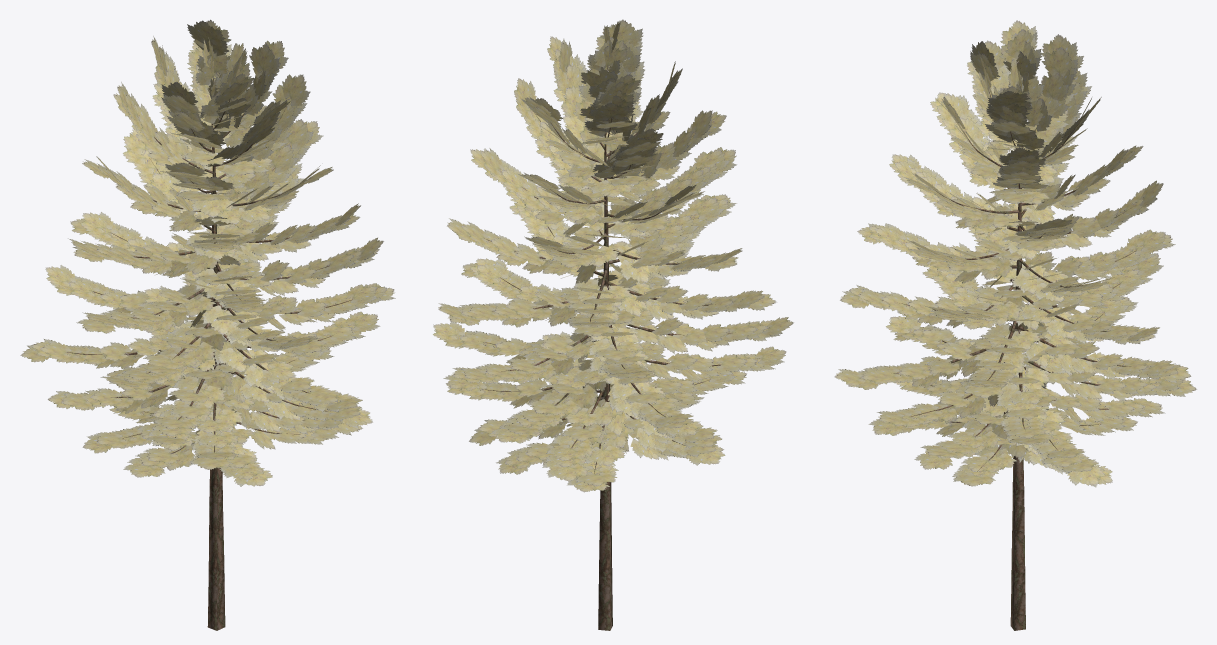
File: Arvore.fbx
The picture shows the model from 3 angles, left to right: view 1: azimuth 30°, elevation 25°; view 2: azimuth 150°, elevation 25°; view 3: azimuth 270°, elevation 25°; orthographic projection.
Parts seen in each view (by area): view 1: leaves.001, tree.001; view 2: leaves.001, tree.001; view 3: leaves.001, tree.001.
Part boxes in pixels (bbox=[...]): leaves.001: bbox=[20, 19, 395, 486]; tree.001: bbox=[67, 78, 352, 630]; leaves.001: bbox=[433, 19, 793, 492]; tree.001: bbox=[482, 66, 732, 630]; leaves.001: bbox=[834, 20, 1196, 487]; tree.001: bbox=[882, 76, 1136, 630].
Size of the model in its own units: 822 by 1473 by 826.
